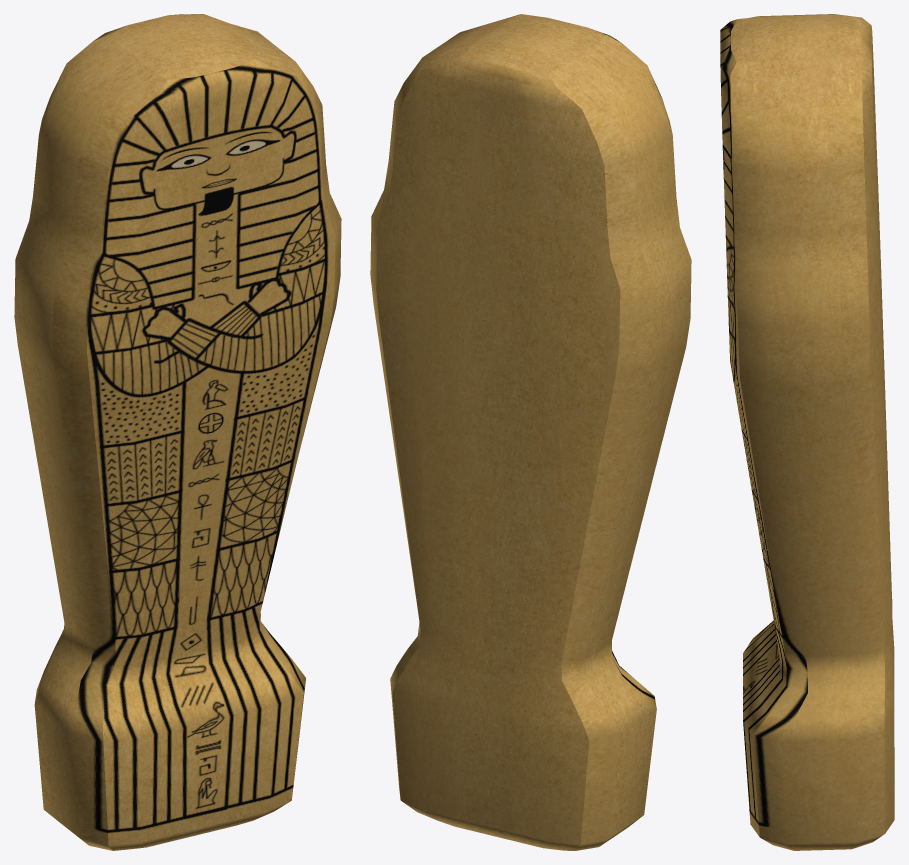
Rendered from Animated Sarcophagus.fbx.
3 views of the same model, side by side, from view 1: azimuth 30°, elevation 25°; view 2: azimuth 150°, elevation 25°; view 3: azimuth 270°, elevation 25° (orthographic).
Parts seen in each view (by area): view 1: Ancient_Sarcophagus_1; view 2: Ancient_Sarcophagus_1; view 3: Ancient_Sarcophagus_1.
Boxes of the visible parts, x1=… form: Ancient_Sarcophagus_1: x1=14, y1=14, x2=341, y2=850; Ancient_Sarcophagus_1: x1=370, y1=14, x2=691, y2=850; Ancient_Sarcophagus_1: x1=720, y1=14, x2=894, y2=850.
Size of the model in its own units: 9.7 by 25.58 by 5.14.
1 material, 1 textured.
